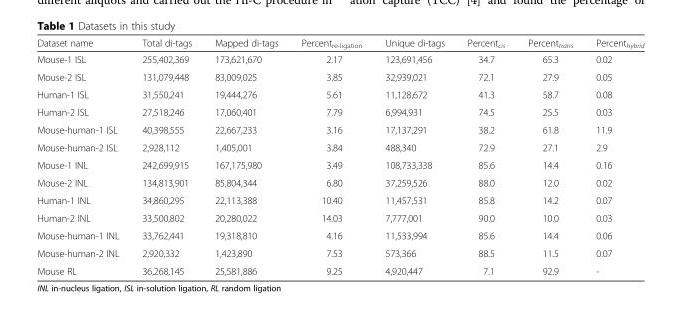table: (36, 36, 643, 276)
table column: (36, 36, 130, 276), (202, 36, 289, 276), (289, 36, 373, 276), (373, 36, 455, 276), (130, 36, 202, 276), (515, 36, 583, 276), (455, 36, 515, 276), (583, 36, 643, 276)
table column header: (36, 36, 643, 51)
table row: (36, 67, 643, 85), (36, 102, 643, 120), (36, 120, 643, 138), (36, 155, 643, 173), (36, 173, 643, 191), (36, 208, 643, 226), (36, 226, 643, 244), (36, 85, 643, 102), (36, 138, 643, 155), (36, 191, 643, 208), (36, 244, 643, 261), (36, 51, 643, 67), (36, 36, 643, 51), (36, 261, 643, 276)
